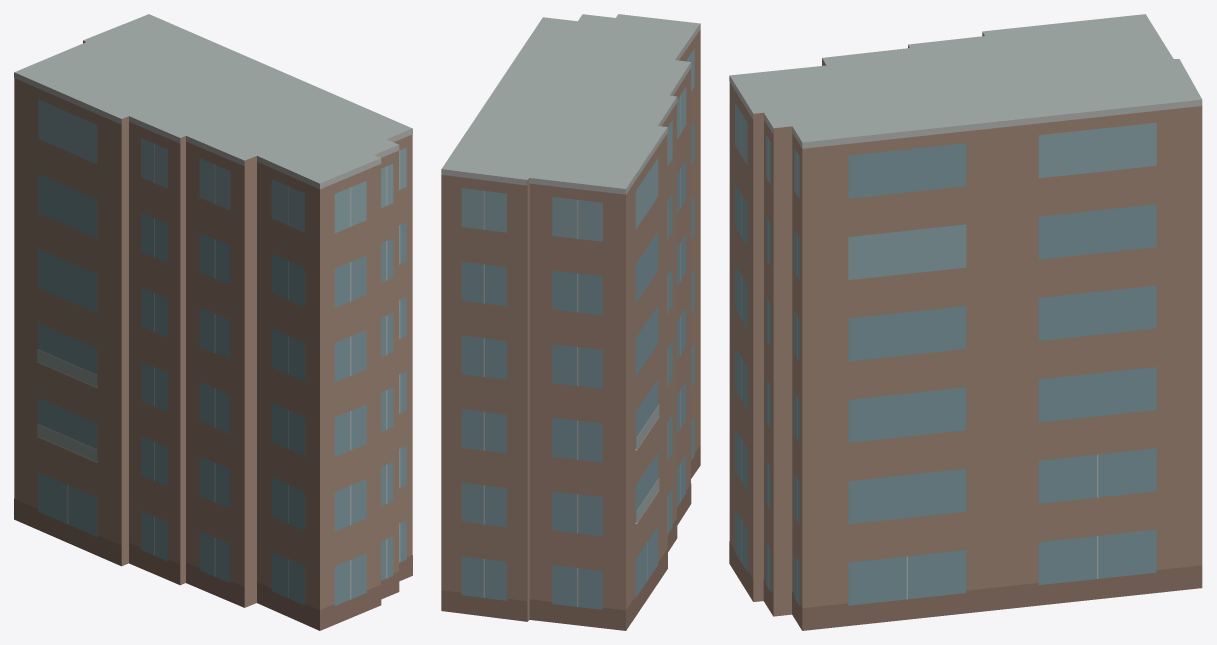
File: survey-upis-32568553.glb
The picture shows the model from 3 angles, left to right: view 1: azimuth 30°, elevation 25°; view 2: azimuth 150°, elevation 25°; view 3: azimuth 270°, elevation 25°; orthographic projection. The views are drawn at different scales.
Parts seen in each view (by area): view 1: survey-upis-32568553.tmp; view 2: survey-upis-32568553.tmp; view 3: survey-upis-32568553.tmp.
Part boxes in pixels (bbox=[...]): survey-upis-32568553.tmp: bbox=[14, 14, 412, 630]; survey-upis-32568553.tmp: bbox=[441, 14, 700, 630]; survey-upis-32568553.tmp: bbox=[729, 14, 1202, 630].
Size of the model in its own units: 10.75 by 19.02 by 16.71.
